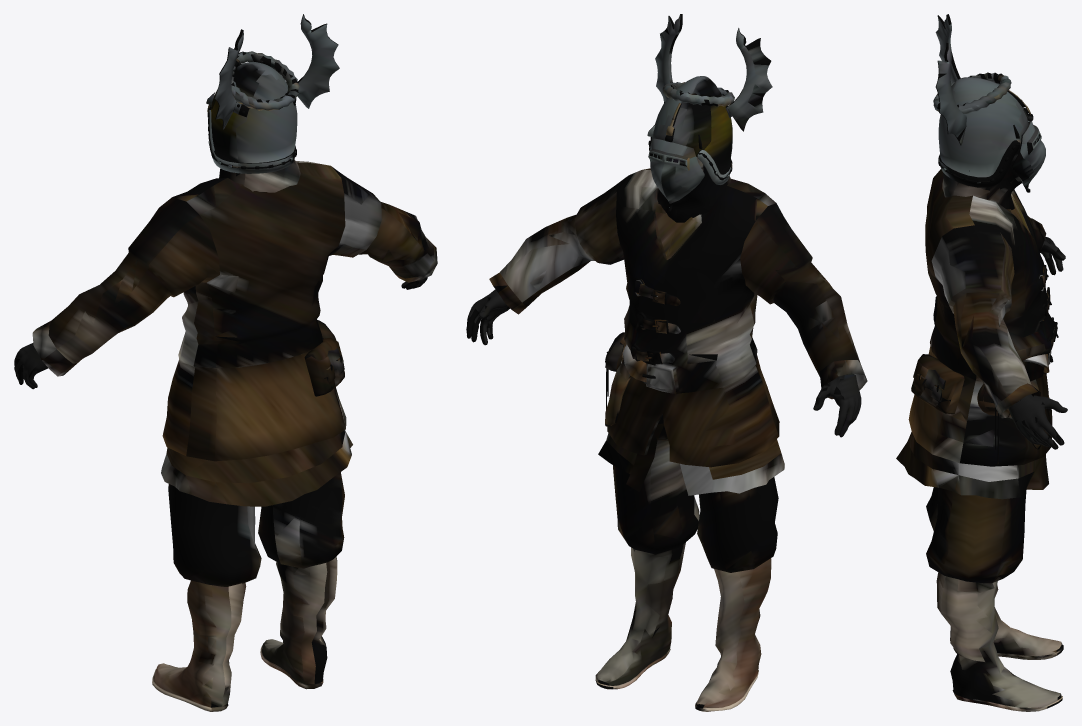
3 renders of one model, left to right at view 1: azimuth 30°, elevation 25°; view 2: azimuth 150°, elevation 25°; view 3: azimuth 270°, elevation 25°, orthographic. The views are drawn at different scales.
Visible parts, largest first — view 1: mesh_0; view 2: mesh_0; view 3: mesh_0.
Boxes of the visible parts, left/top/right/bottom form: mesh_0: left=14, top=14, right=437, bottom=711; mesh_0: left=466, top=14, right=867, bottom=711; mesh_0: left=896, top=14, right=1067, bottom=711.
Size of the model in its own units: 49.96 by 80.35 by 19.2.
1 material, 1 textured.
